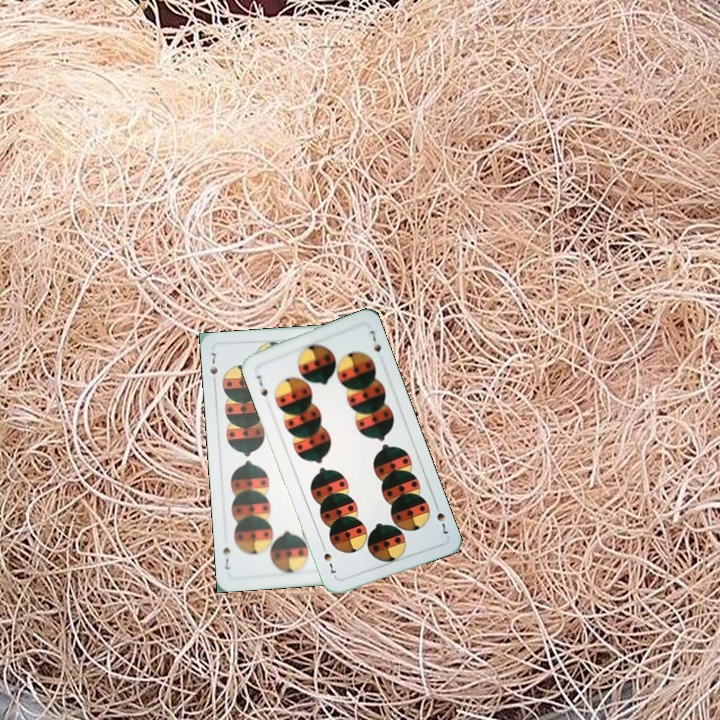S7: (431, 499, 451, 537), (206, 348, 220, 388), (252, 371, 270, 401)
